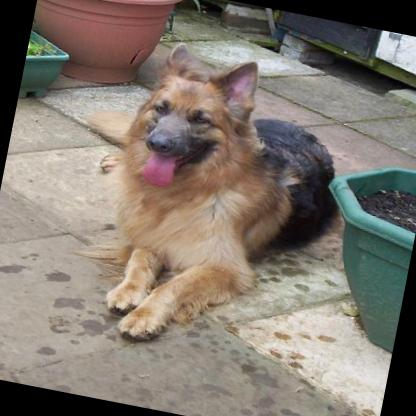German_shepherd: (38, 23, 367, 377)
